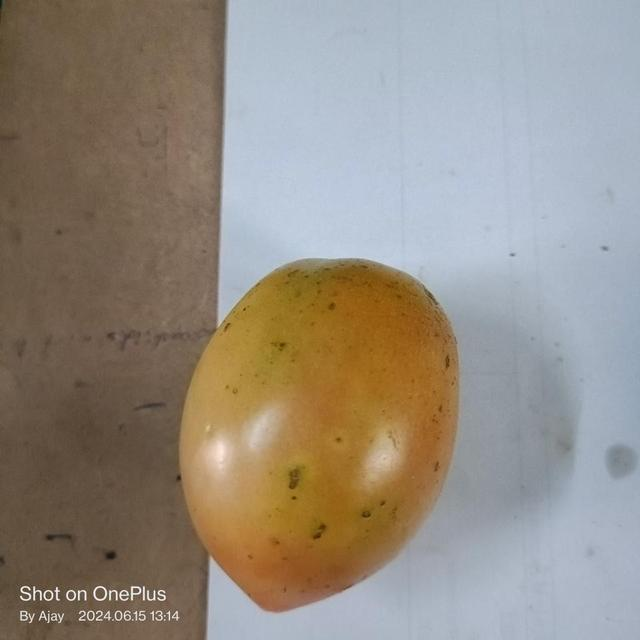Bacterial Spot Fruit: (9, 8, 244, 354)
